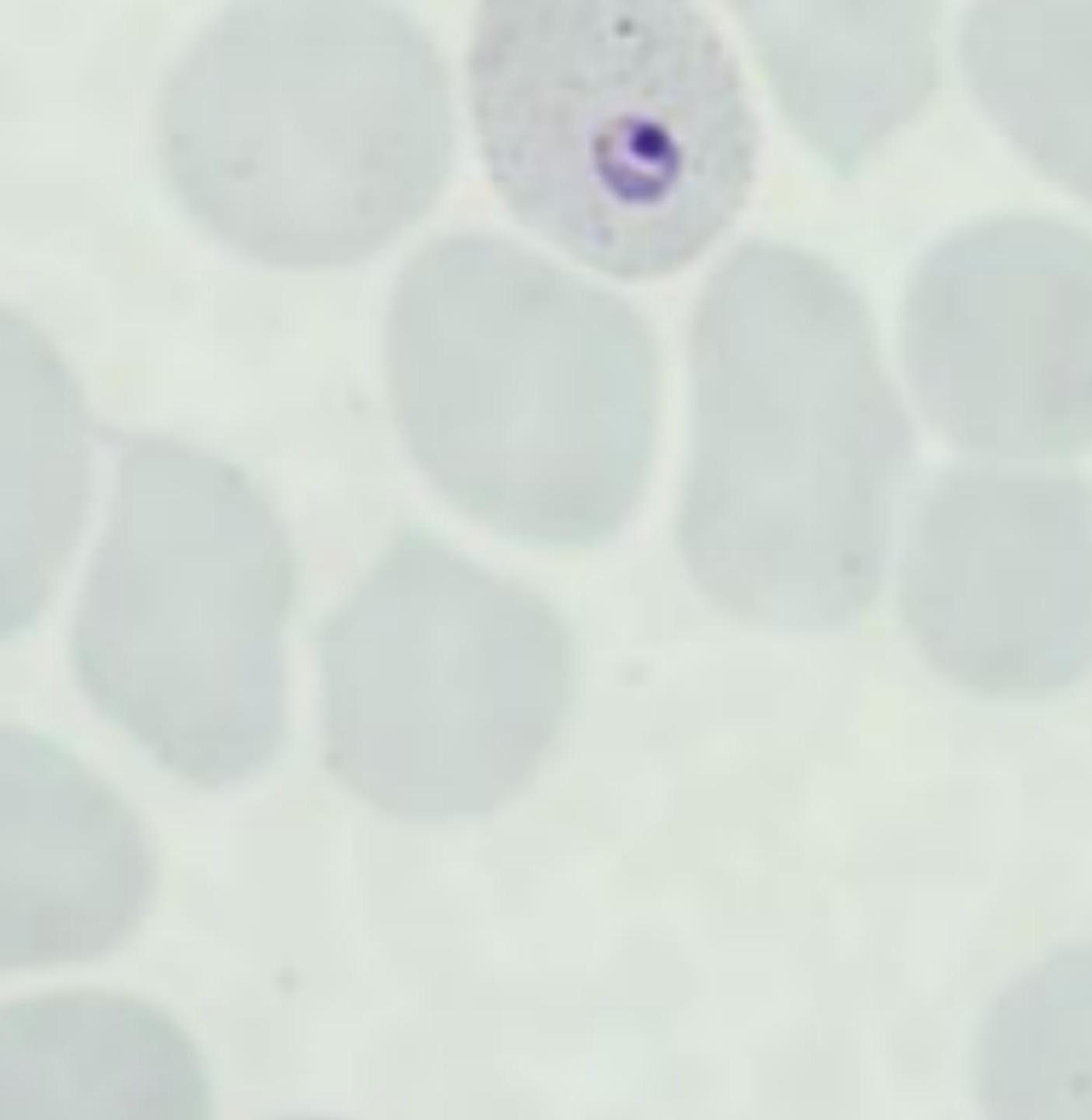Infected: (469, 0, 756, 283)
Uninfected: (387, 230, 665, 545), (681, 251, 908, 629), (66, 438, 300, 794), (156, 0, 457, 259), (323, 535, 580, 819), (887, 210, 1092, 454), (900, 448, 1092, 699), (0, 728, 149, 956)
